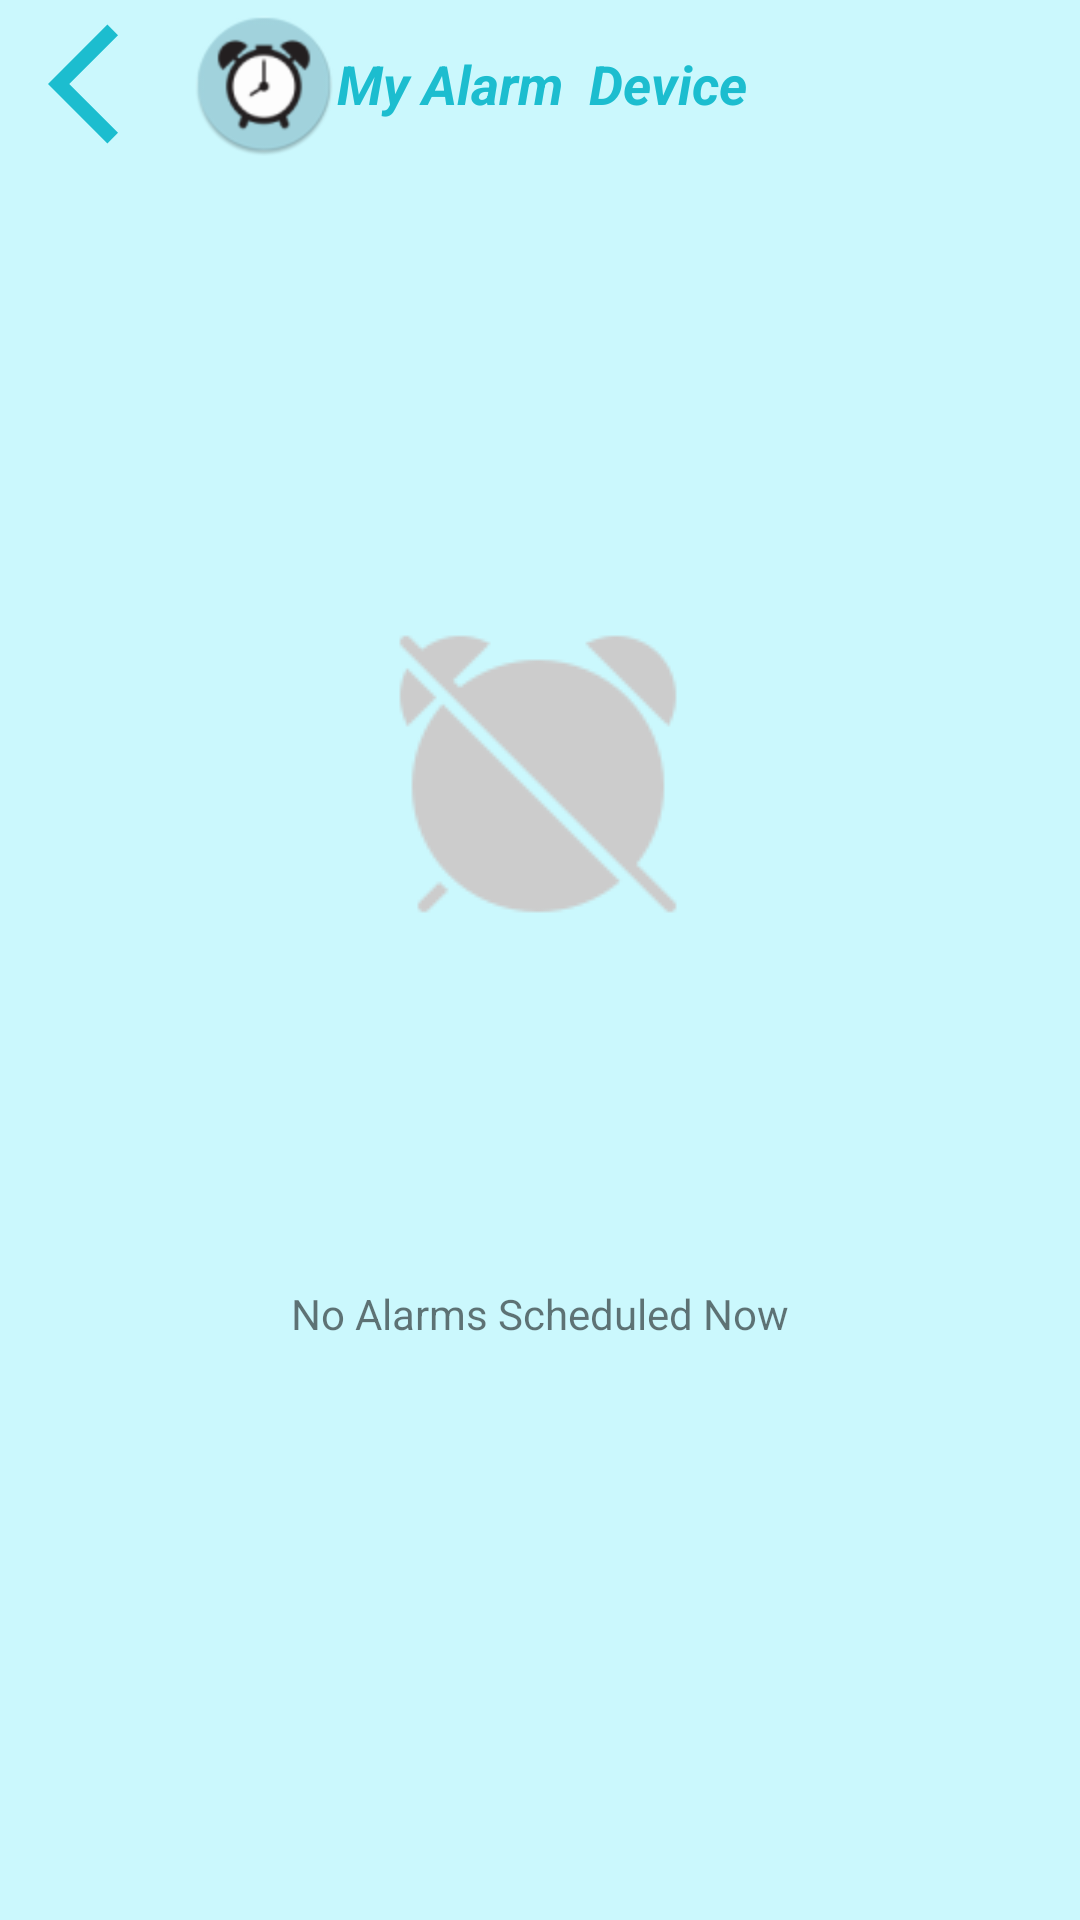

Icons on this 1080*1920 Android screen, each with the point to tap as (x,y):
arrow back: (83,84)
no alarm: (538,774)
